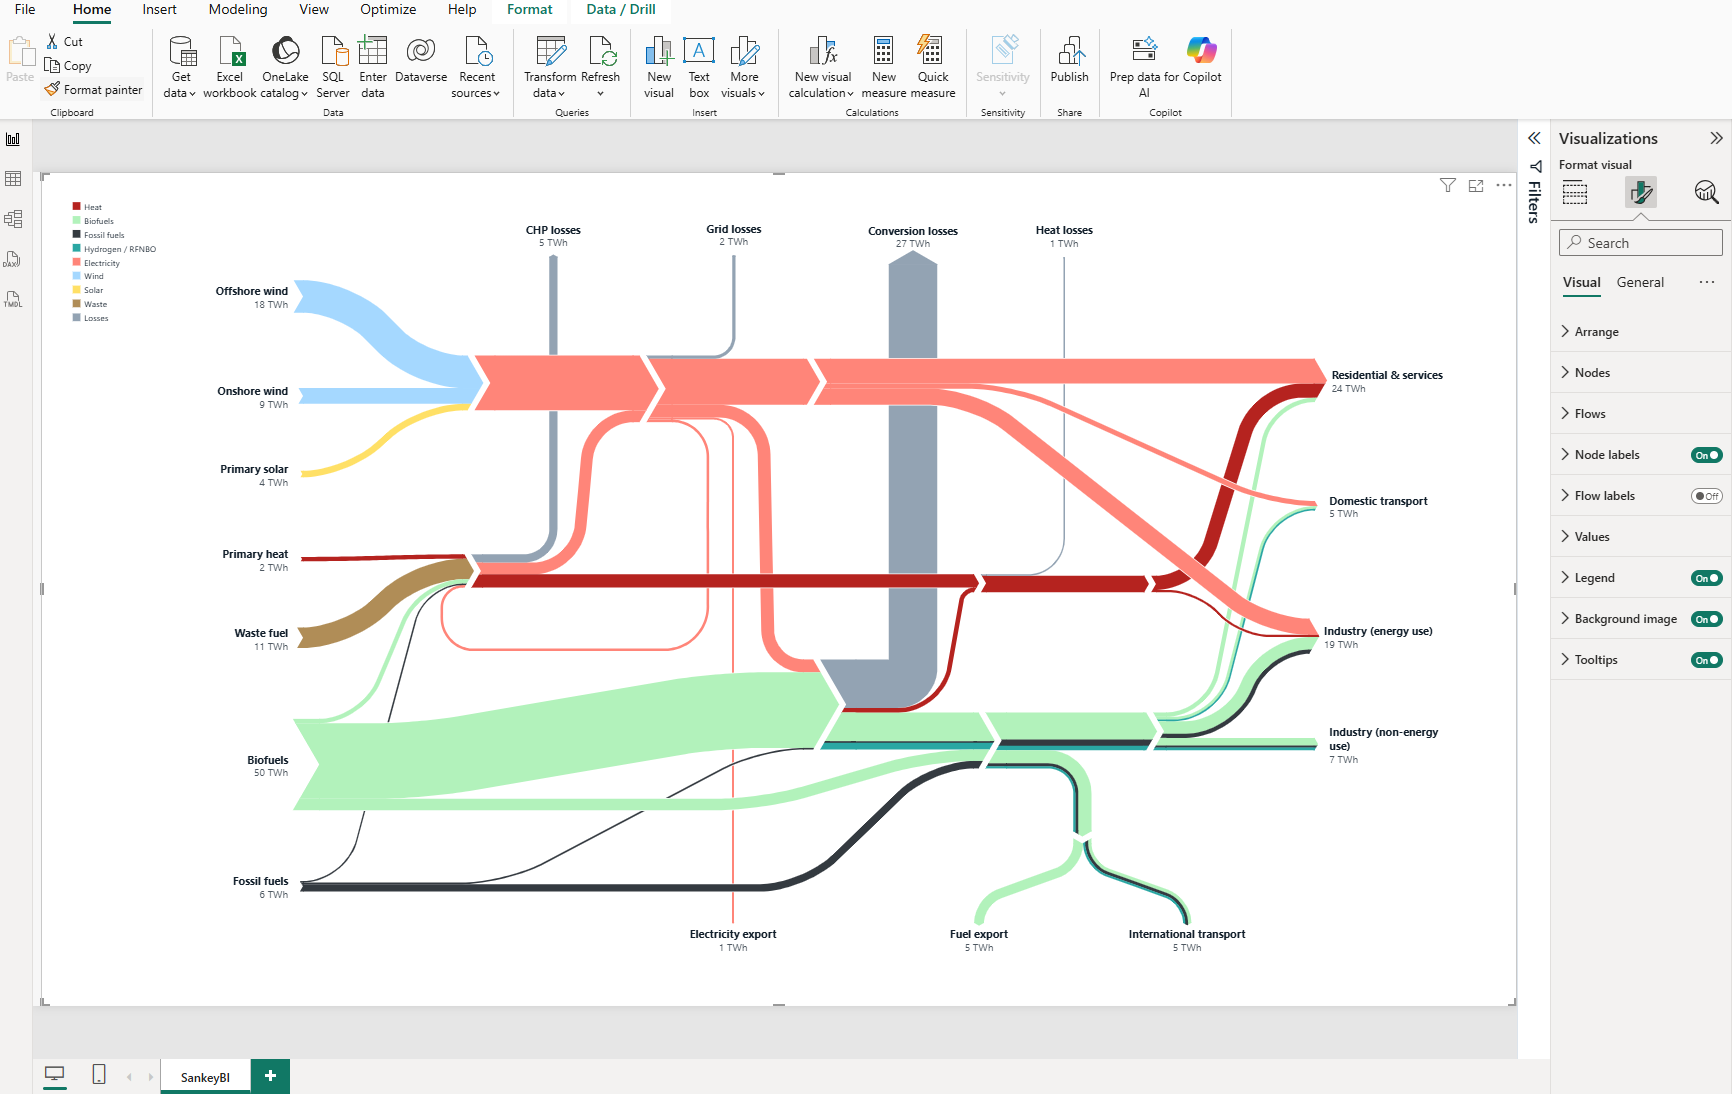

What the dashboard file says about the page in this screenshot:
{"tool":"powerbi","page":{"name":"SankeyBI","canvas":[1920,1080],"ordinal":0},"visuals":[{"type":"sankeybiCF95AC3A2200C7D52E23D033878EC823","fields":{"source":["Data.Source"],"target":["Data.Target"],"value":["Sum(Data.Value)"],"flowType":["Data.FlowType"],"sourcePort":["Data.SourcePort"],"targetPort":["Data.TargetPort"],"sourceOrder":["Data.SourceOrder"],"targetOrder":["Data.TargetOrder"],"flowDisplayOrder":["Sum(Data.FlowDisplayOrder)"],"flowColour":["Data.FlowColour"]},"box":[10.4,0,1909.6,1080.3],"z":0}]}

Visuals, with their boxes on the page's 1920x1080 design canvas (x1, y1, x2, y2). These are canvas units, not pixel positions in the 1732x1094 screenshot, which may show the page scaled, cropped or inside an application window:
sankeybiCF95AC3A2200C7D52E23D033878EC823 - Data.Source x Data.Target: crop(10, 0, 1920, 1080)
